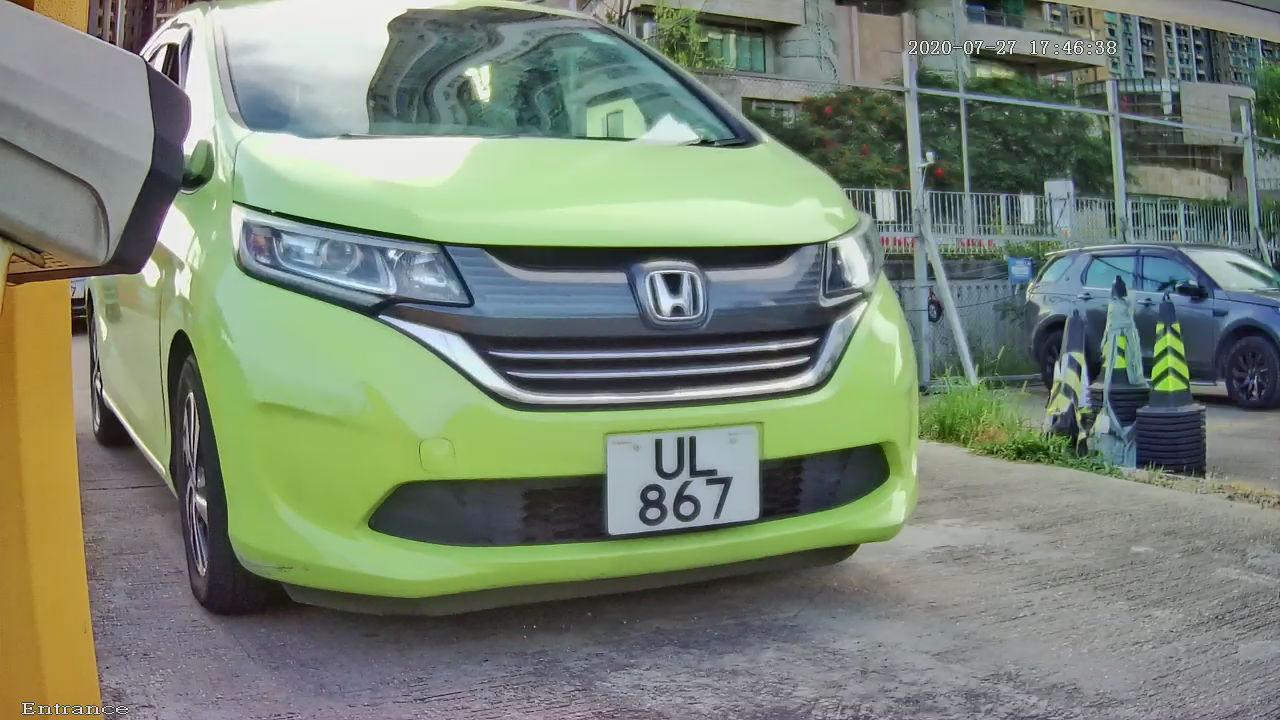privatecar: (69, 23, 1001, 640)
